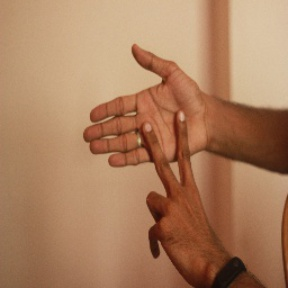N: (81, 38, 218, 233)
